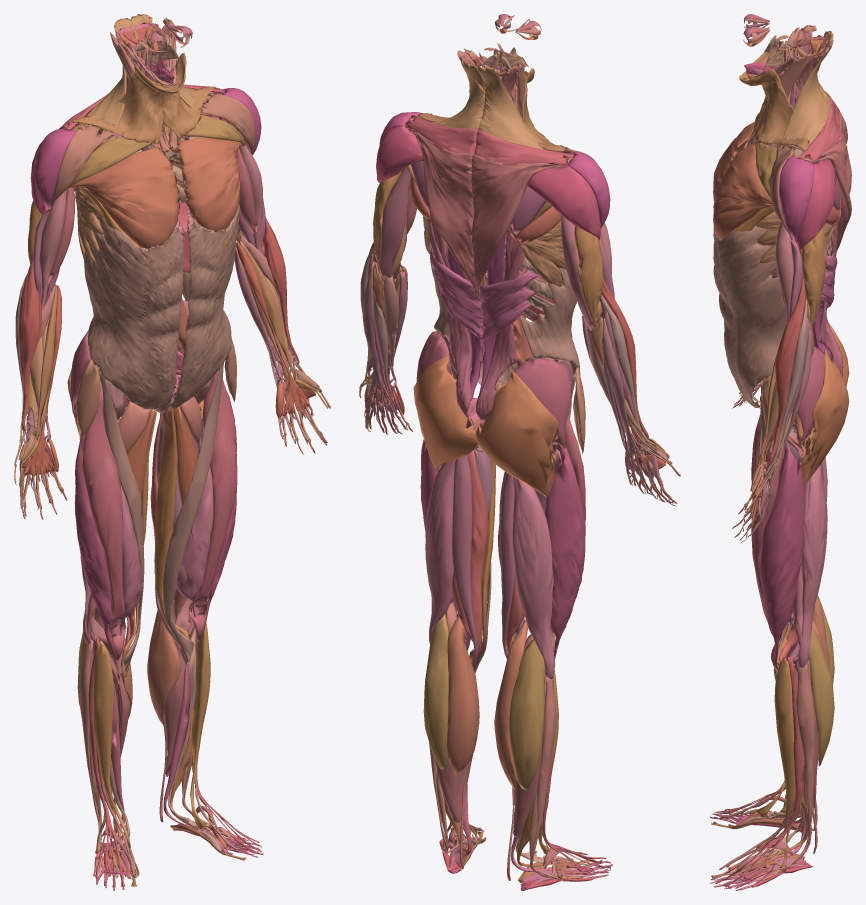
File: body-muscles.lod0.glb
3 renders of one model, left to right at view 1: azimuth 30°, elevation 25°; view 2: azimuth 150°, elevation 25°; view 3: azimuth 270°, elevation 25°, orthographic.
Visible parts, largest first — view 1: external-oblique-r, external-oblique-l, sternocostal-part-of-pectoralis-major-r, rectus-femoris-r, sternocostal-part-of-pectoralis-major-l, rectus-femoris-l, sartorius-l, vastus-lateralis-r, platysma-r, gracilis-l, sartorius-r, tibialis-anterior-r (+42 smaller); view 2: gluteus-maximus-r, long-head-of-biceps-femoris-r, vastus-lateralis-r, ascending-part-of-trapezius-l, ascending-part-of-trapezius-r, gluteus-maximus-l, lateral-head-of-gastrocnemius-r, medial-head-of-gastrocnemius-l, long-head-of-biceps-femoris-l, external-oblique-r, semitendinosus-l, lateral-head-of-gastrocnemius-l (+44 smaller); view 3: external-oblique-l, vastus-lateralis-l, long-head-of-biceps-femoris-l, sternocostal-part-of-pectoralis-major-l, gluteus-maximus-l, tibialis-anterior-l, platysma-l, acromial-part-of-deltoid-l, descending-part-of-trapezius-l, lateral-head-of-gastrocnemius-l, brachioradialis-l, fibularis-longus-l (+33 smaller).
Boxes of the visible parts, x1=… form: external-oblique-r: x1=84, y1=216, x2=183, y2=412; external-oblique-l: x1=168, y1=203, x2=240, y2=409; sternocostal-part-of-pectoralis-major-r: x1=69, y1=146, x2=179, y2=248; rectus-femoris-r: x1=82, y1=381, x2=126, y2=661; sternocostal-part-of-pectoralis-major-l: x1=177, y1=137, x2=241, y2=231; rectus-femoris-l: x1=188, y1=369, x2=237, y2=641; sartorius-l: x1=163, y1=362, x2=224, y2=663; vastus-lateralis-r: x1=74, y1=434, x2=116, y2=659; platysma-r: x1=71, y1=64, x2=175, y2=144; gracilis-l: x1=155, y1=407, x2=191, y2=639; sartorius-r: x1=98, y1=372, x2=144, y2=678; tibialis-anterior-r: x1=93, y1=640, x2=130, y2=848; gluteus-maximus-r: x1=476, y1=370, x2=559, y2=497; long-head-of-biceps-femoris-r: x1=512, y1=476, x2=555, y2=678; vastus-lateralis-r: x1=545, y1=444, x2=585, y2=659; ascending-part-of-trapezius-l: x1=414, y1=131, x2=480, y2=298; ascending-part-of-trapezius-r: x1=471, y1=153, x2=556, y2=298; gluteus-maximus-l: x1=413, y1=355, x2=477, y2=471; lateral-head-of-gastrocnemius-r: x1=509, y1=639, x2=545, y2=789; medial-head-of-gastrocnemius-l: x1=446, y1=616, x2=479, y2=775; long-head-of-biceps-femoris-l: x1=425, y1=459, x2=455, y2=644; external-oblique-r: x1=520, y1=268, x2=580, y2=374; semitendinosus-l: x1=452, y1=454, x2=478, y2=666; lateral-head-of-gastrocnemius-l: x1=423, y1=613, x2=448, y2=769; external-oblique-l: x1=713, y1=225, x2=786, y2=408; vastus-lateralis-l: x1=760, y1=441, x2=805, y2=671; long-head-of-biceps-femoris-l: x1=797, y1=464, x2=827, y2=668; sternocostal-part-of-pectoralis-major-l: x1=713, y1=143, x2=772, y2=238; gluteus-maximus-l: x1=800, y1=349, x2=849, y2=485; tibialis-anterior-l: x1=756, y1=657, x2=795, y2=851; platysma-l: x1=739, y1=69, x2=809, y2=150; acromial-part-of-deltoid-l: x1=779, y1=155, x2=814, y2=241; descending-part-of-trapezius-l: x1=782, y1=40, x2=833, y2=144; lateral-head-of-gastrocnemius-l: x1=792, y1=621, x2=834, y2=766; brachioradialis-l: x1=768, y1=274, x2=805, y2=463; fibularis-longus-l: x1=763, y1=662, x2=814, y2=866.
Size of the model in its own units: 0.6387 by 1.61 by 0.251.
